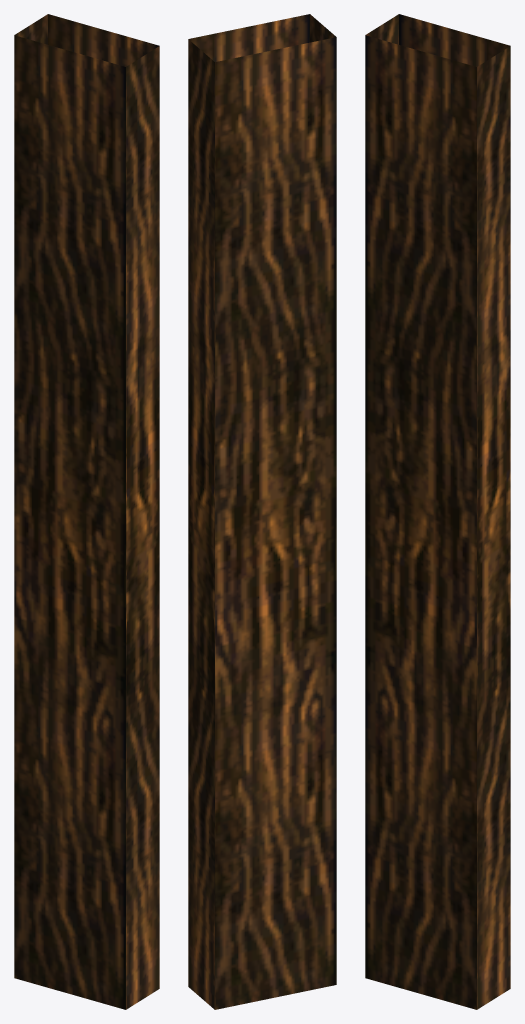
File: OVERHILL_A_01_BOX83.fbx
The picture shows the model from 3 angles, left to right: view 1: azimuth 90°, elevation 25°; view 2: azimuth 150°, elevation 25°; view 3: azimuth 270°, elevation 25°; orthographic projection.
Parts seen in each view (by area): view 1: OVERHILL_A_01_BOX83; view 2: OVERHILL_A_01_BOX83; view 3: OVERHILL_A_01_BOX83.
Part boxes in pixels (left/top/right/bottom): OVERHILL_A_01_BOX83: left=14, top=14, right=159, bottom=1009; OVERHILL_A_01_BOX83: left=188, top=14, right=336, bottom=1009; OVERHILL_A_01_BOX83: left=365, top=14, right=510, bottom=1009.
Size of the model in its own units: 1036 by 8588 by 1202.
1 material, 1 textured.
